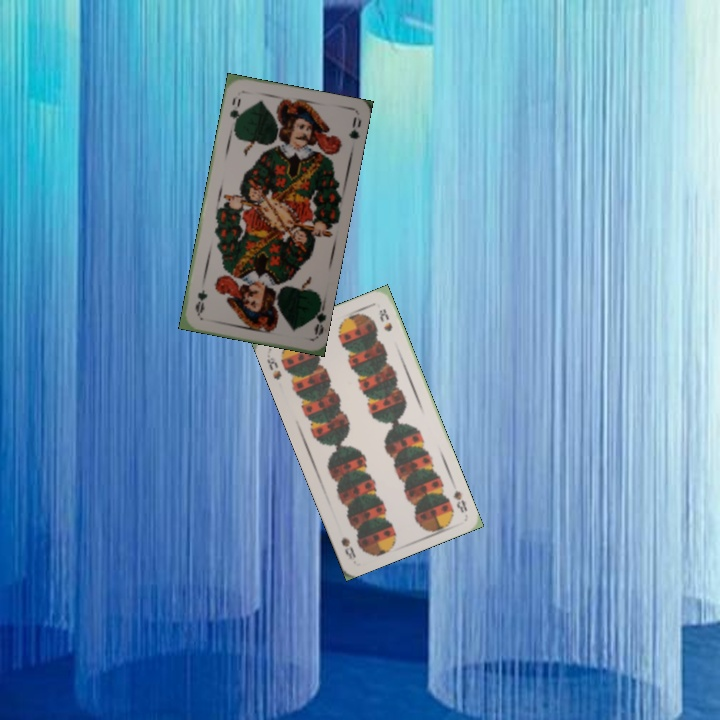GO: (306, 298, 328, 339), (225, 93, 243, 131)
S8: (263, 347, 284, 382), (449, 486, 470, 515)
